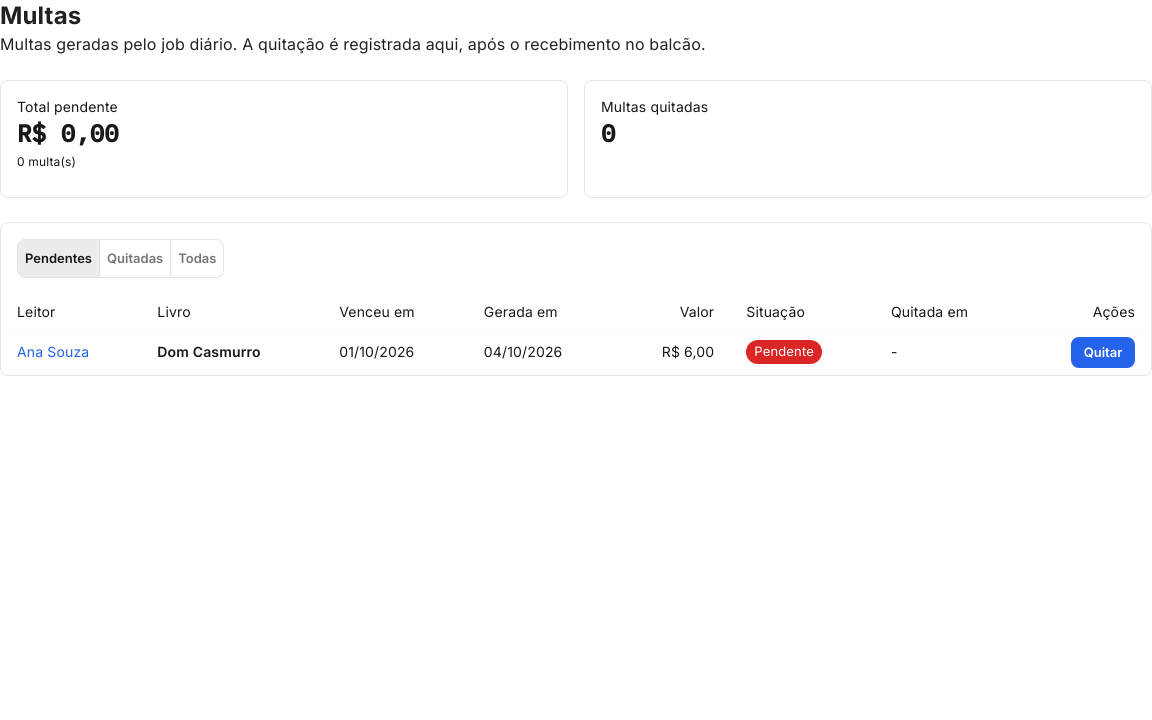
it: visão do bibliotecário › recarrega a lista quando a multa já tinha sido quitada (409)
Click the button "Quitar" at {"x": 1103, "y": 352}, box [1071, 337, 1135, 368]
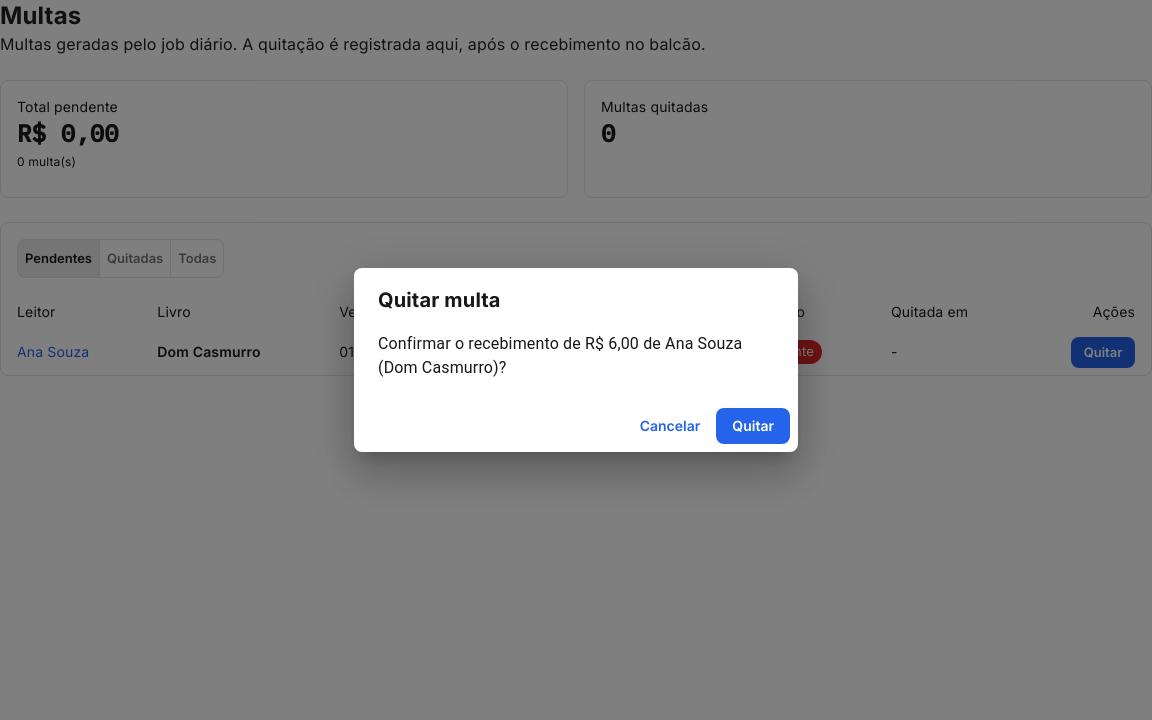
Click the button "Quitar" at {"x": 753, "y": 426}, box [716, 408, 790, 444]
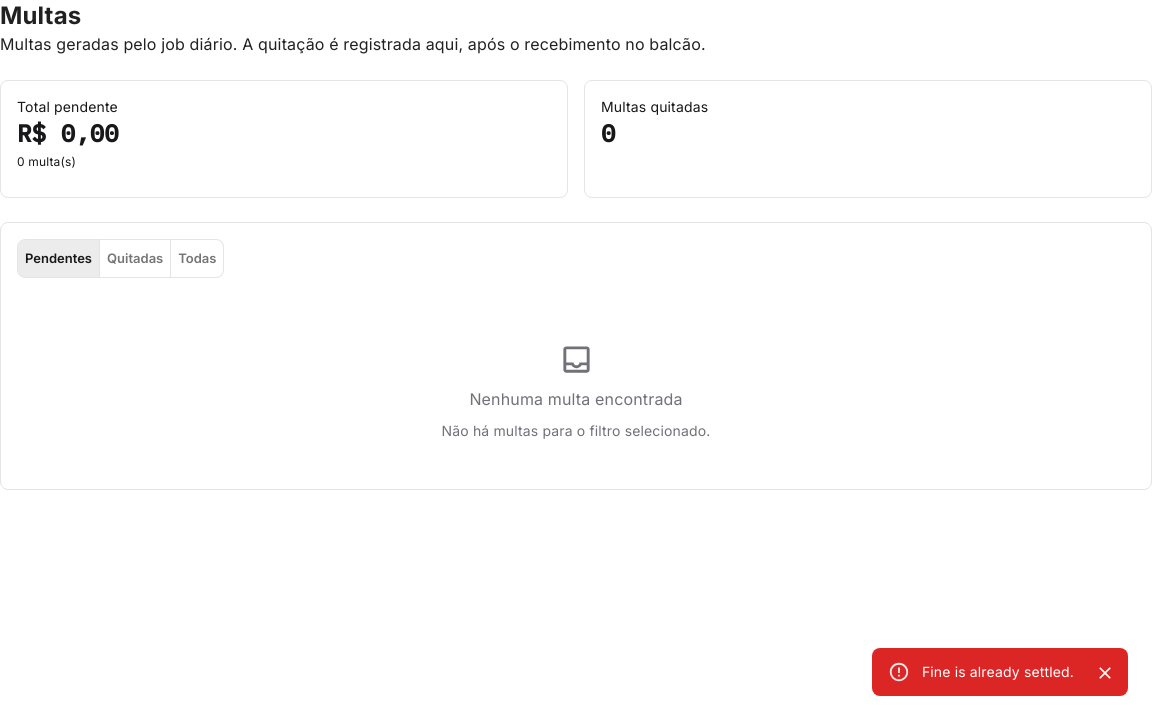
Expected: the heading "Nenhuma multa encontrada" is shown, [469, 385, 683, 413]
Expected: the text "Fine is already settled." is shown, [922, 663, 1074, 680]
